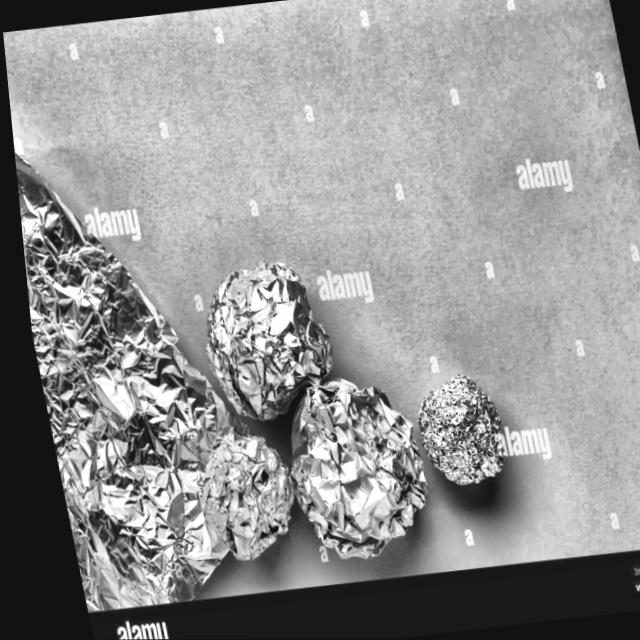Foil: (5, 67, 289, 613), (256, 351, 436, 572), (177, 248, 339, 438), (165, 414, 299, 570), (398, 347, 520, 514)
